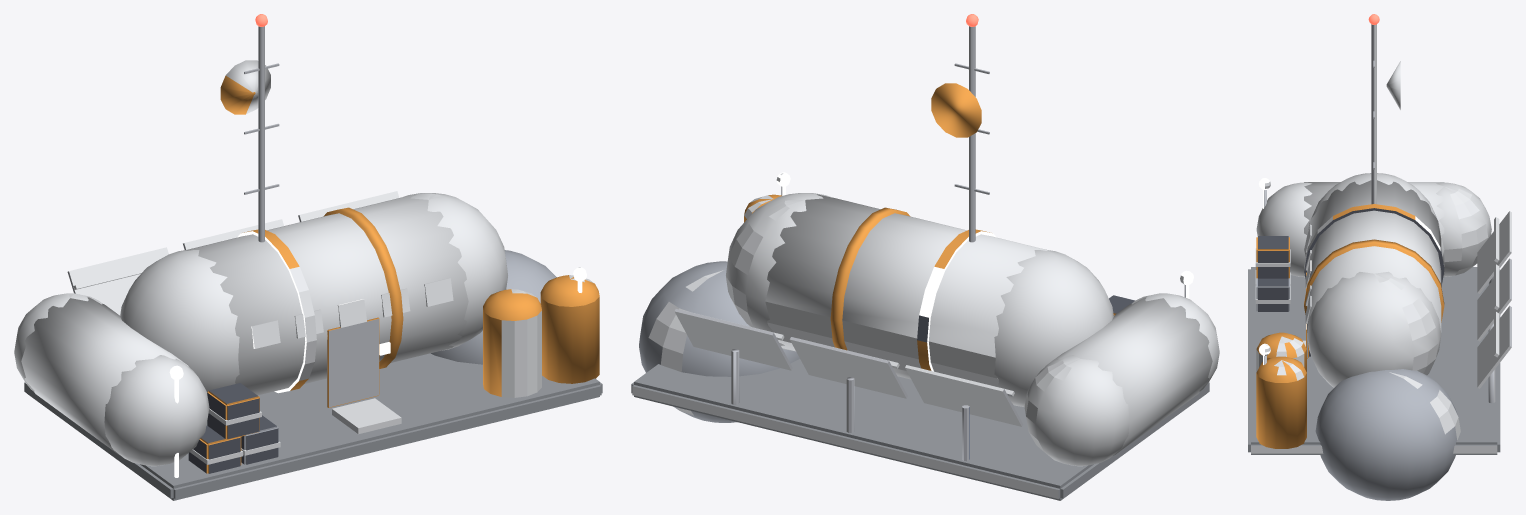
Rendered from outpost.glb.
The picture shows the model from 3 angles, left to right: view 1: azimuth 30°, elevation 25°; view 2: azimuth 150°, elevation 25°; view 3: azimuth 270°, elevation 25°; orthographic projection. The views are drawn at different scales.
Parts seen in each view (by area): view 1: Outpost; view 2: Outpost; view 3: Outpost.
Boxes of the visible parts, left/top/right/bottom form: Outpost: left=14, top=14, right=602, bottom=500; Outpost: left=631, top=14, right=1219, bottom=500; Outpost: left=1248, top=14, right=1511, bottom=500.
Size of the model in its own units: 17.8 by 15 by 9.41.
